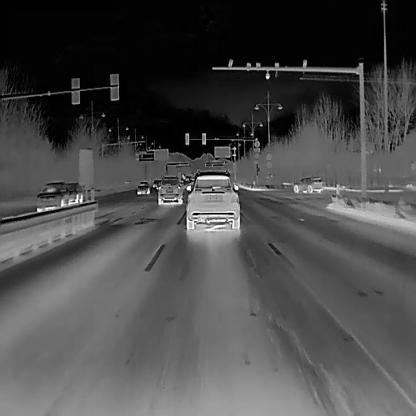car: (186, 169, 241, 230), (37, 182, 70, 213), (157, 176, 182, 205), (293, 176, 323, 194), (67, 181, 82, 205), (136, 181, 149, 195)
